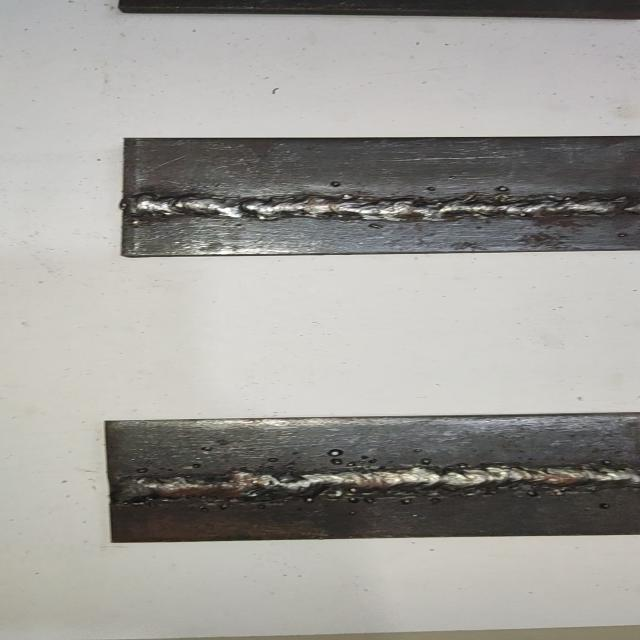Good Weld: (113, 458, 640, 506), (126, 192, 640, 222)
